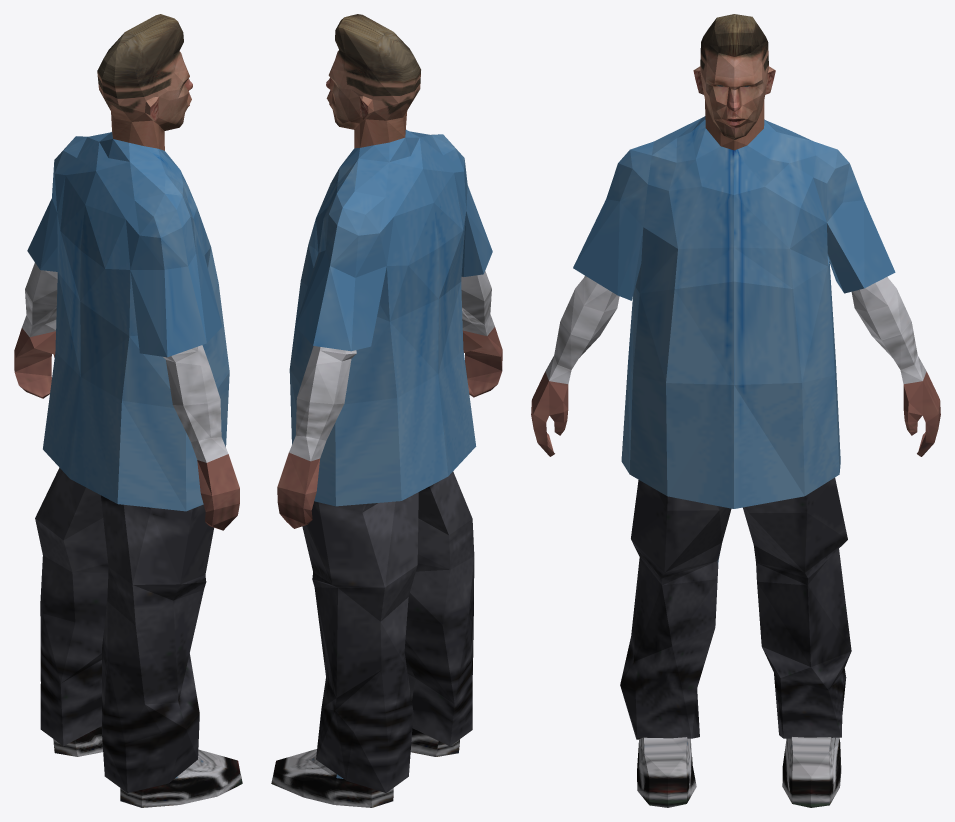
File: wmybar.obj
The picture shows the model from 3 angles, left to right: view 1: azimuth 30°, elevation 25°; view 2: azimuth 150°, elevation 25°; view 3: azimuth 270°, elevation 25°; orthographic projection. The views are drawn at different scales.
Parts seen in each view (by area): view 1: _Pelvis; view 2: _Pelvis; view 3: _Pelvis.
Part boxes in pixels (x1,y1,x2,y2): _Pelvis: (14, 14, 242, 807); _Pelvis: (271, 14, 502, 807); _Pelvis: (531, 14, 940, 807).
Bounding box in the file's own units: 0.3851 × 1.92 × 0.9308.
Materials: 1 (1 with a texture image).
